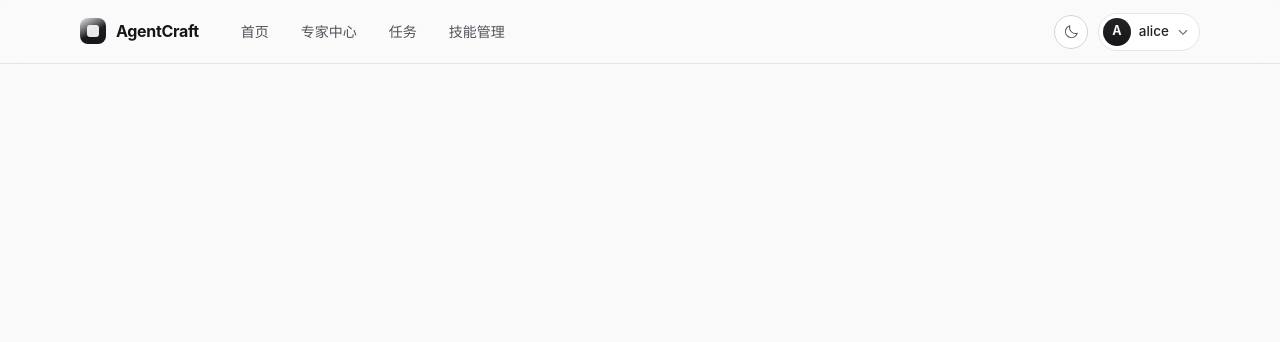
Test: 会话引导（T14 归一：唯一会话域） › V2 会话：「退出账户会话」为唯一登出入口，V1「登出」条目已随轨删除
Click the button "A alice": {"x": 1149, "y": 32} [1098,12,1200,50]
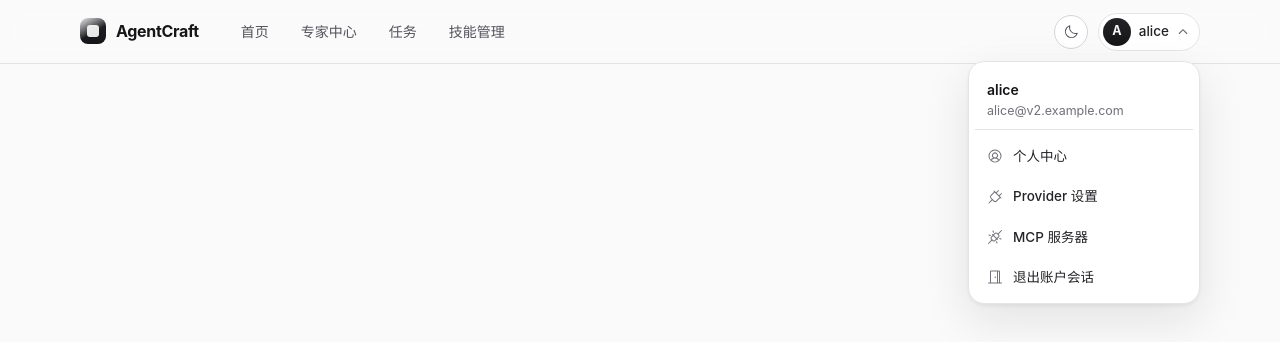
Check: the menu item "退出账户会话" is shown, box [975,257,1193,297]
